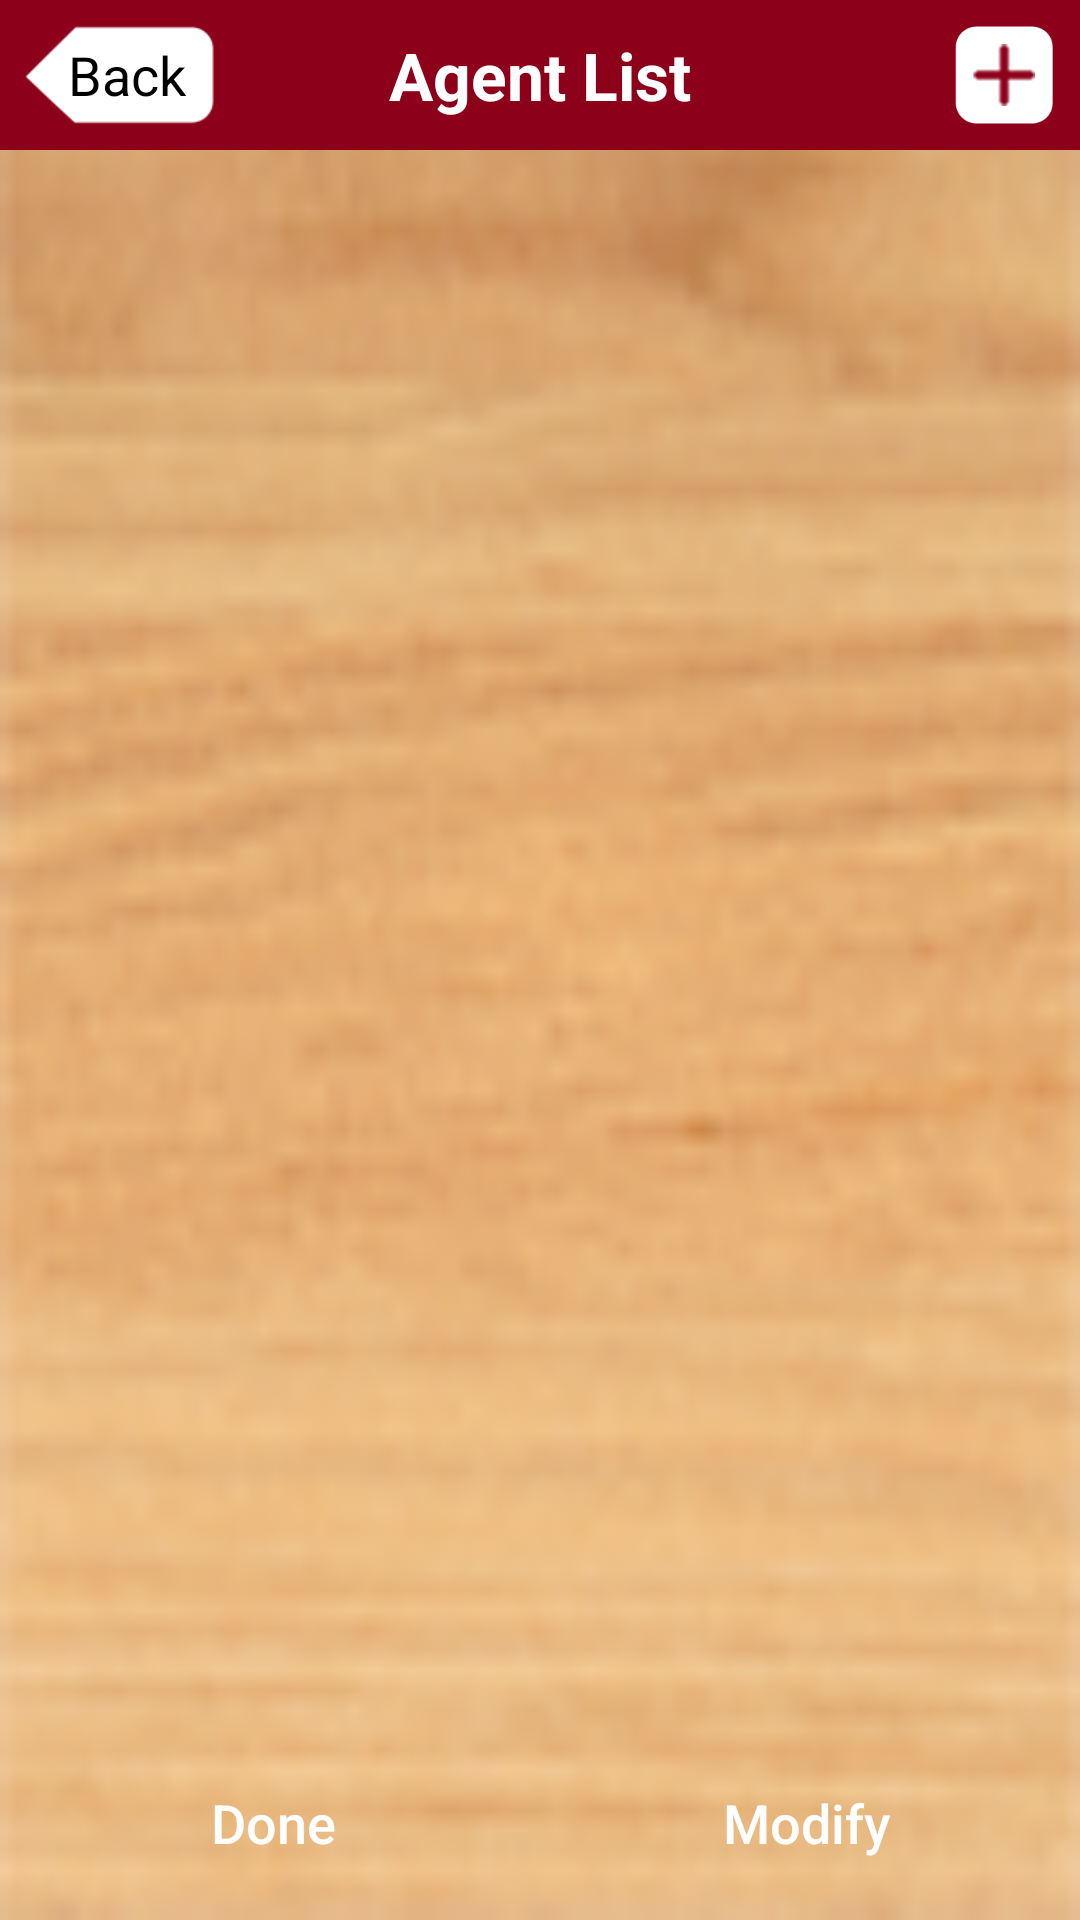

Icon click points for this 1080w x 1920h phone screenshot, format (x,y):
plus: (1004,75)
